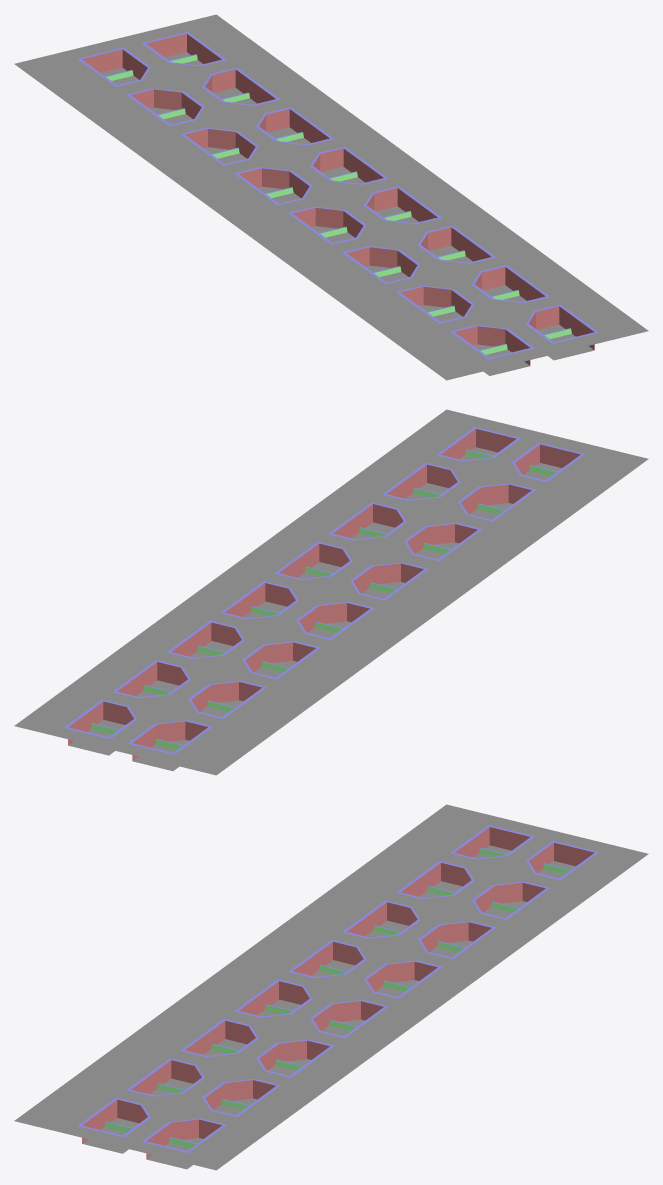
File: SSQ_BRoom01_Btm.gltf
3 renders of one model, top to bottom at view 1: azimuth 30°, elevation 25°; view 2: azimuth 150°, elevation 25°; view 3: azimuth 330°, elevation 25°, orthographic.
Parts seen in each view (by area): view 1: SSQ_BRoom01_Btm; view 2: SSQ_BRoom01_Btm; view 3: SSQ_BRoom01_Btm.
Boxes of the visible parts, x1,y1,x2,y2 form: SSQ_BRoom01_Btm: [14, 14, 648, 380]; SSQ_BRoom01_Btm: [14, 409, 648, 775]; SSQ_BRoom01_Btm: [14, 804, 648, 1170].
Size of the model in its own units: 5.55 by 0.48 by 20.53.
